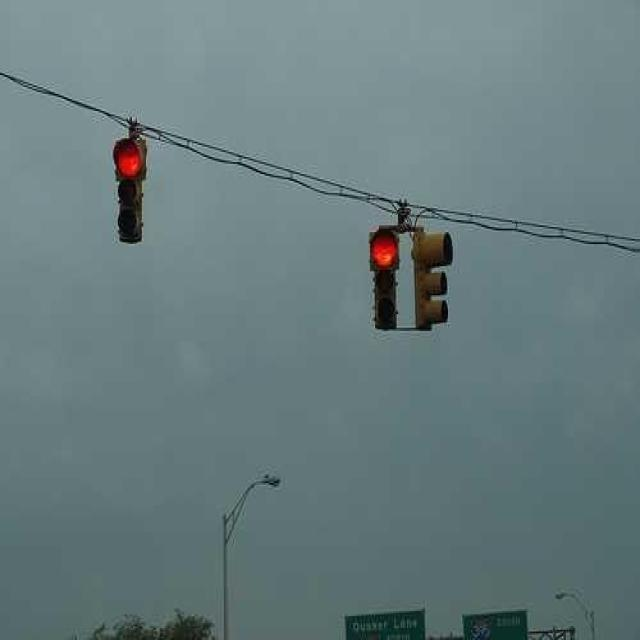Traffic Light -Red-: (110, 133, 150, 244), (370, 225, 403, 331)
